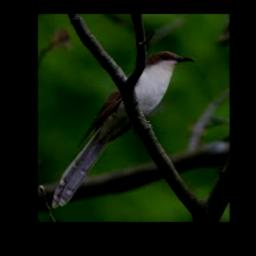Cuckoo: (51, 51, 195, 208)
